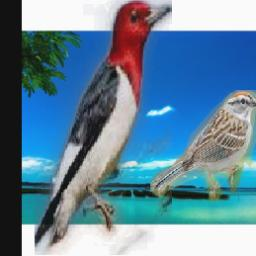Sparrow: (149, 90, 256, 201)
Woodpecker: (34, 0, 171, 255)
